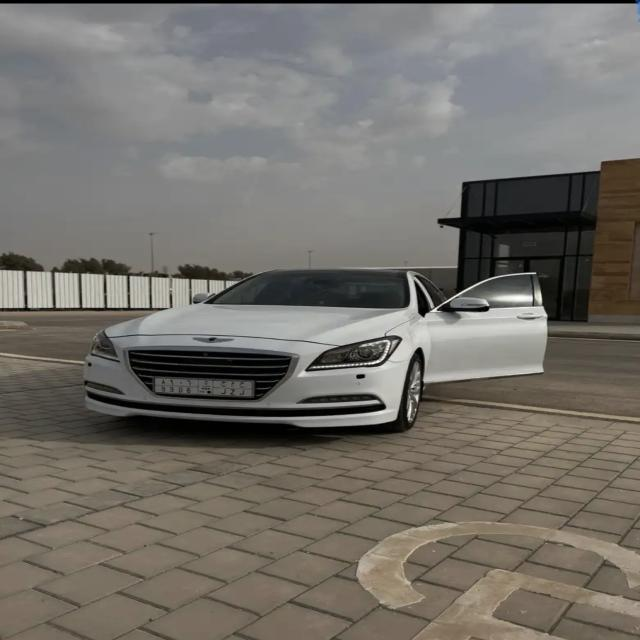license_plate: (154, 374, 255, 398)
